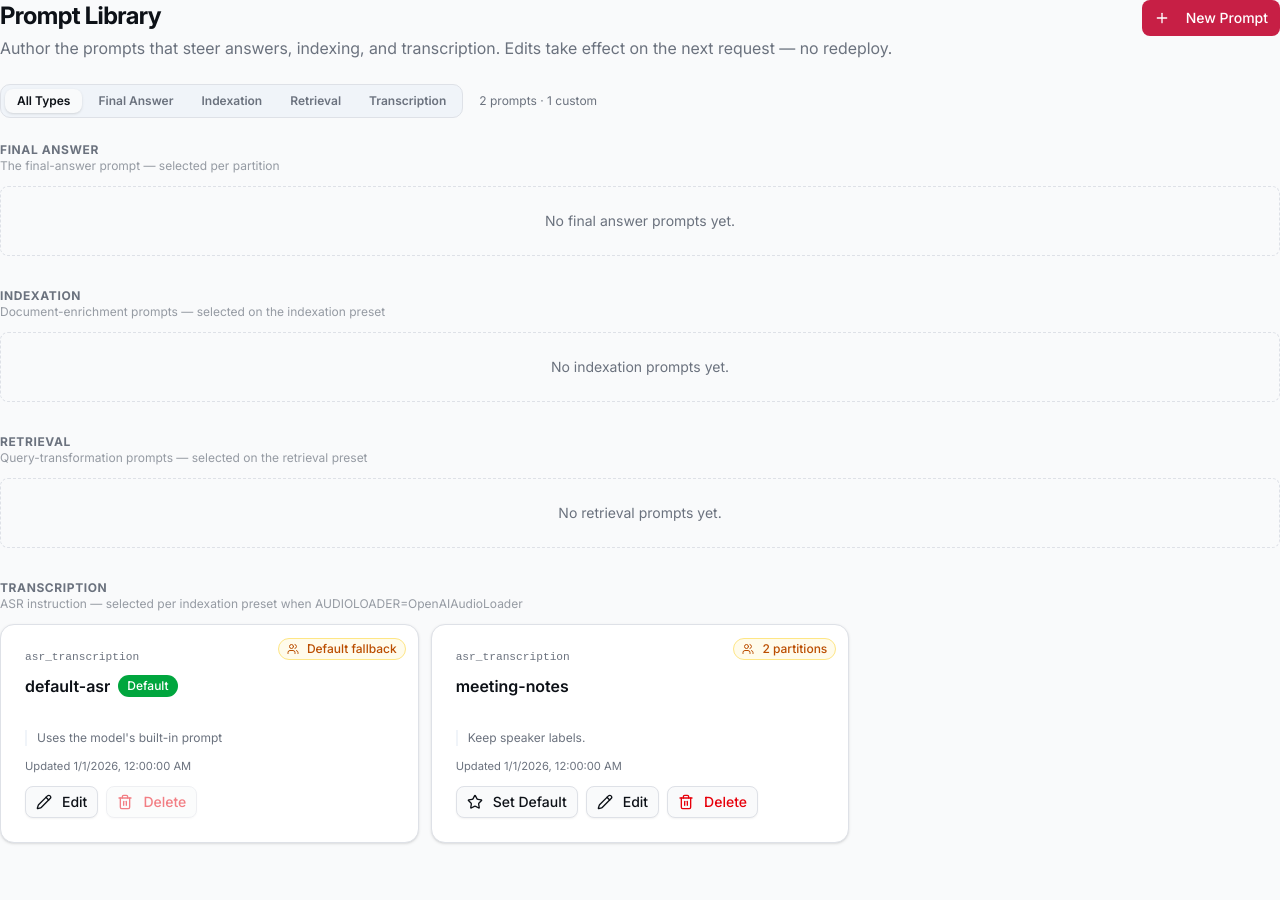
PromptsPage ASR prompt scope › explains inherited and explicitly selected ASR prompts differently
Step 1. Click the button "Edit" below "Uses the model's built-in prompt" → (62, 802), box [25,786,98,818]
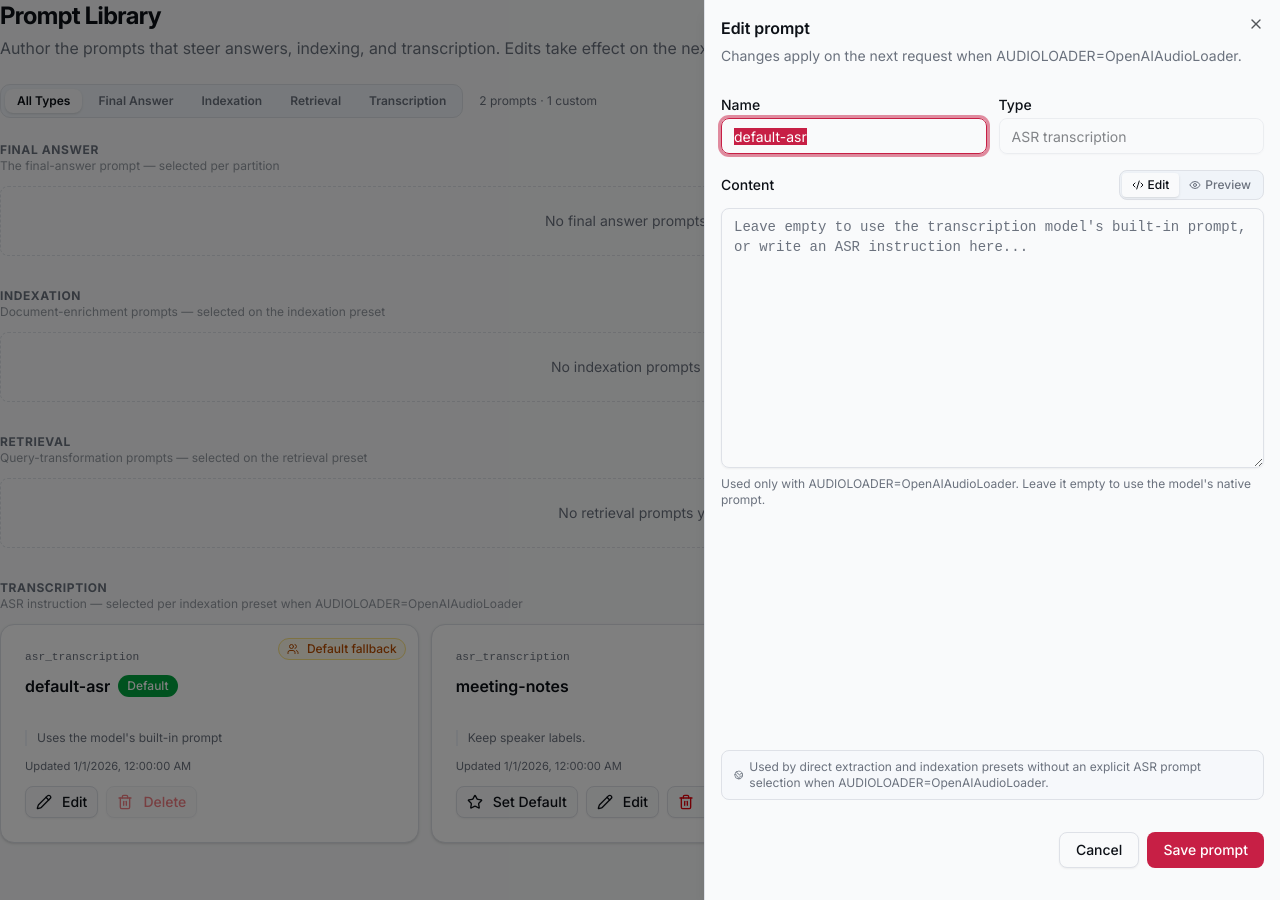
Expected: the text "used by direct extraction and indexation presets without an explicit ASR prompt selection" is shown, [749,759,1201,790]
Step 2. Click the button "Cancel" → (1099, 850), box [1059,832,1139,868]
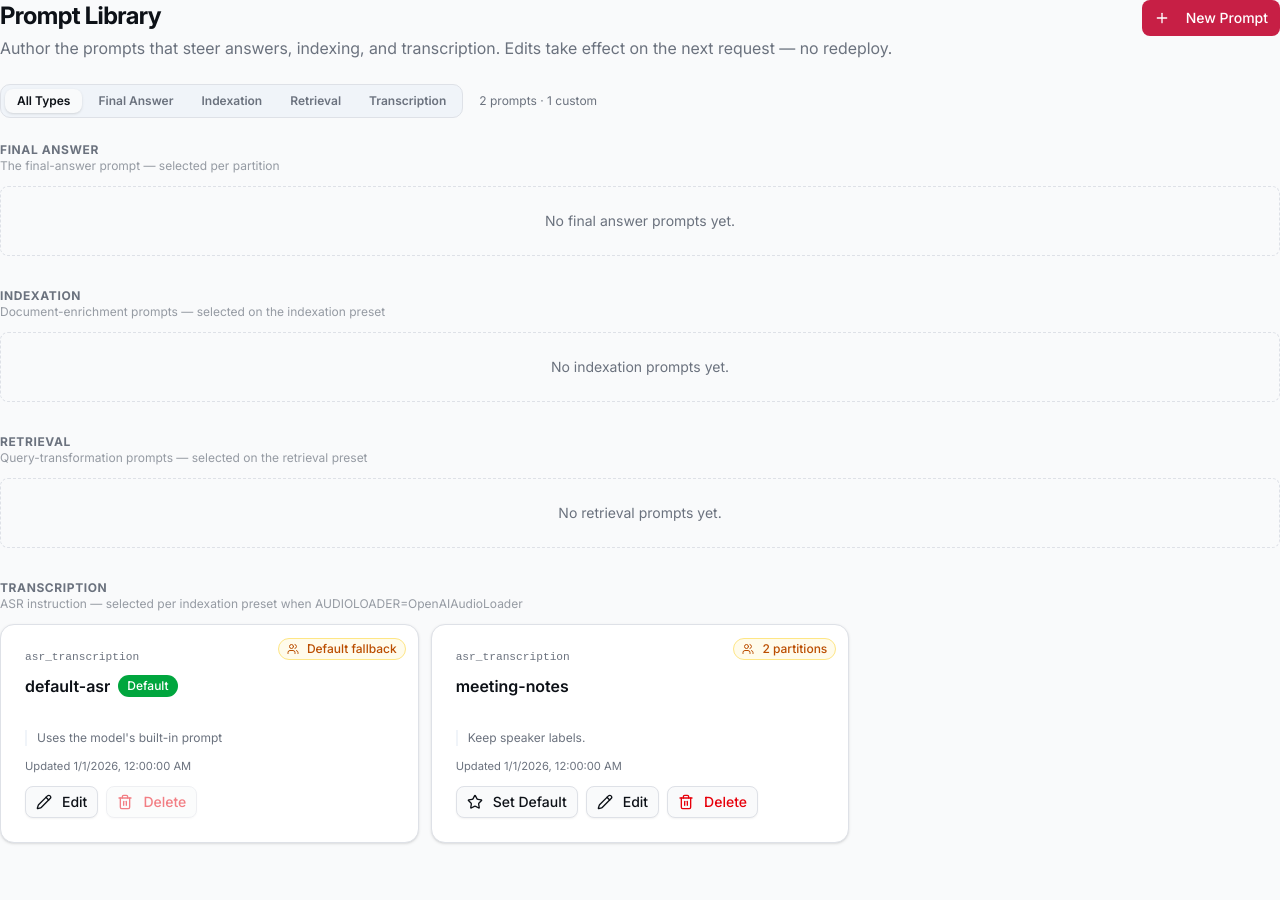
Step 3. Click the button "Edit" below "Keep speaker labels." → (622, 802), box [586,786,659,818]
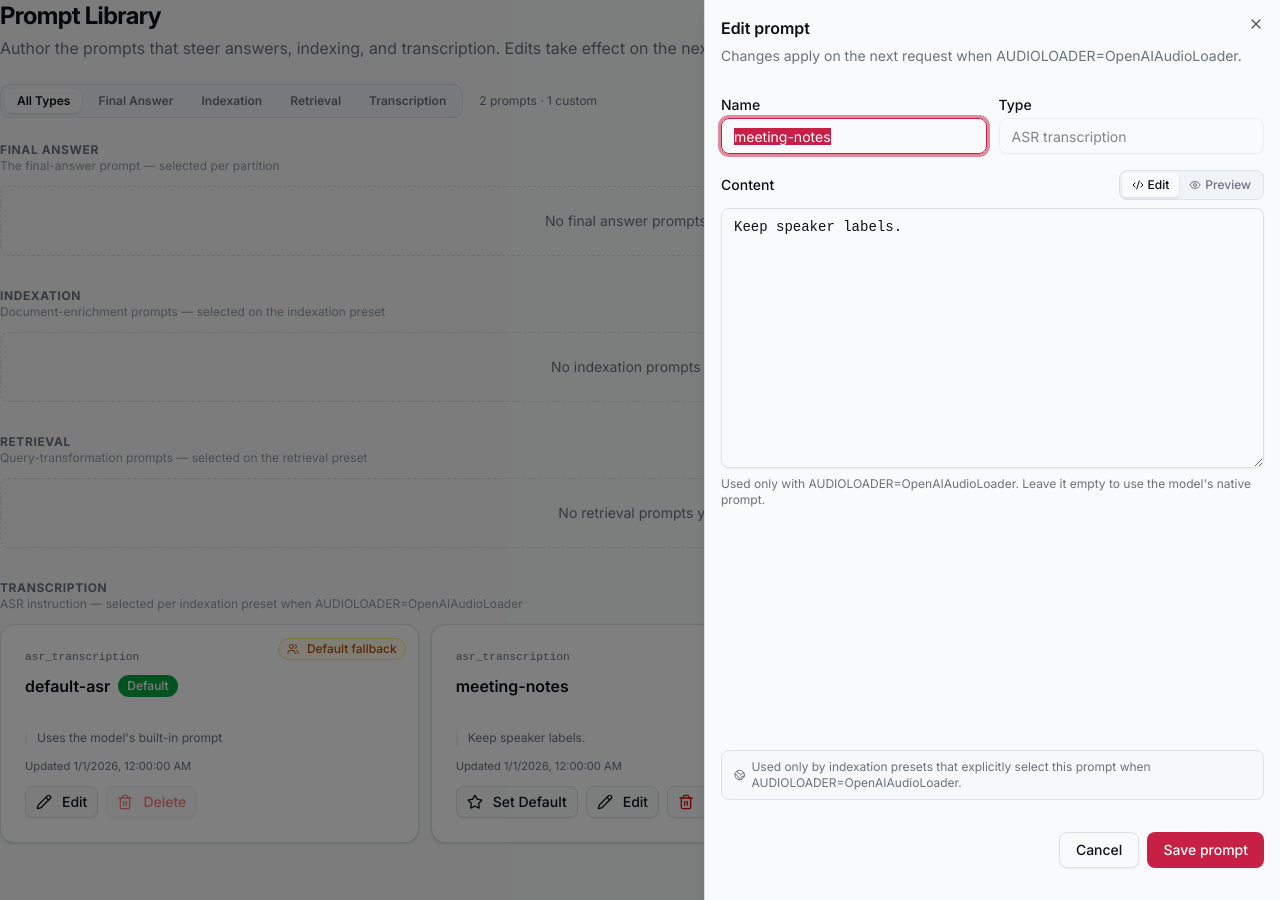
Expected: the text "Used only by indexation presets that explicitly select this prompt" is shown, [751,759,1151,790]
